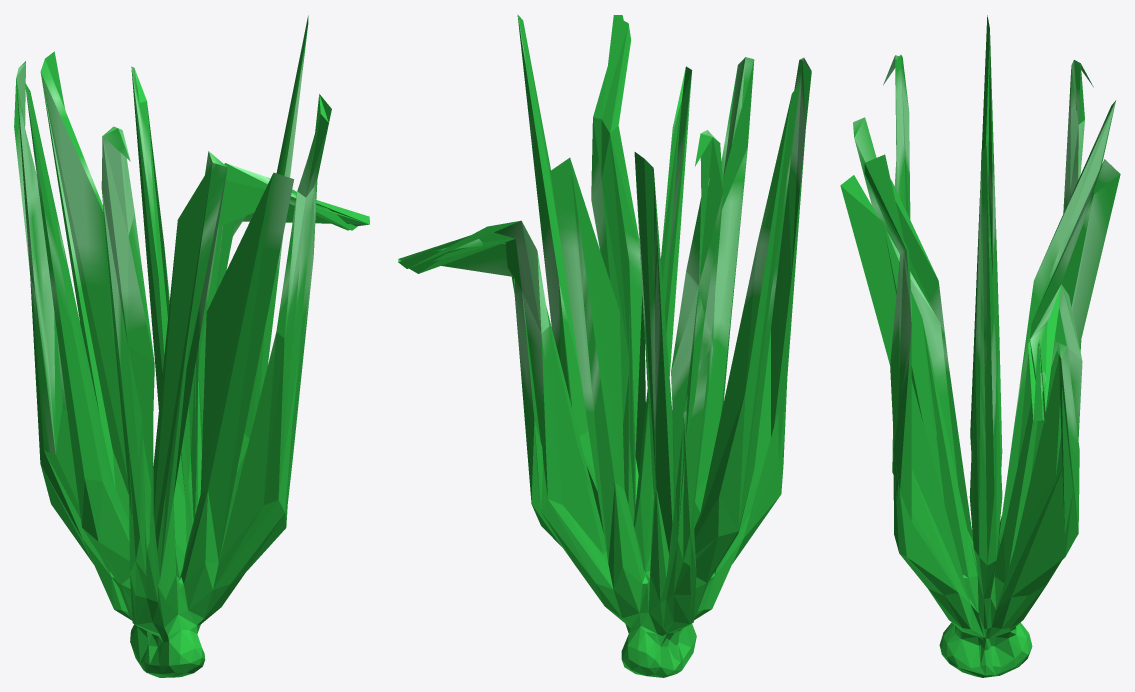
File: Ciboulette.fbx
3 views of the same model, side by side, from view 1: azimuth 30°, elevation 25°; view 2: azimuth 150°, elevation 25°; view 3: azimuth 270°, elevation 25° (orthographic). The views are drawn at different scales.
Parts seen in each view (by area): view 1: Ciboulette; view 2: Ciboulette; view 3: Ciboulette.
Boxes of the visible parts, box(x1,y1,x2,y2) form: Ciboulette: box(14, 15, 369, 677); Ciboulette: box(398, 14, 811, 677); Ciboulette: box(840, 15, 1120, 677).
Size of the model in its own units: 313 by 500 by 215.
1 material, 1 textured.
